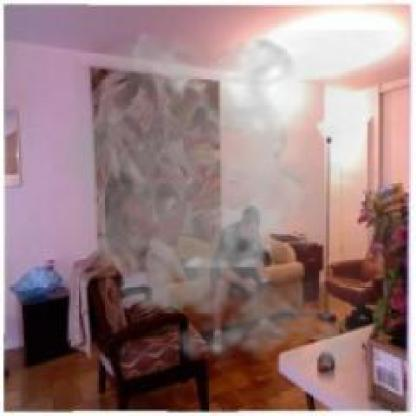Smoke: (37, 30, 402, 383)
